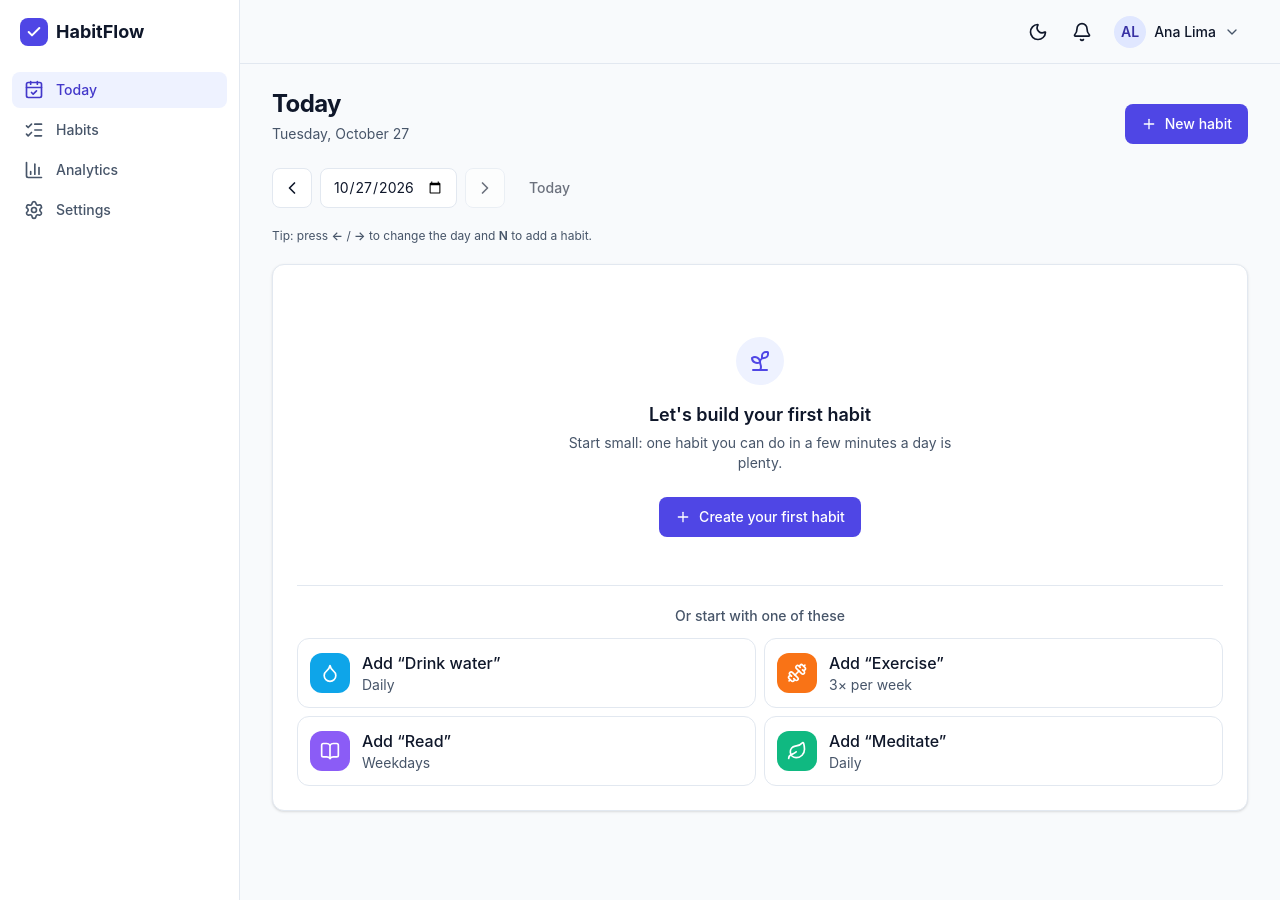
Test case: Escape closes the panel and returns focus to the bell
Click the button named "Notifications": {"x": 1082, "y": 32} [1062, 12, 1102, 52]
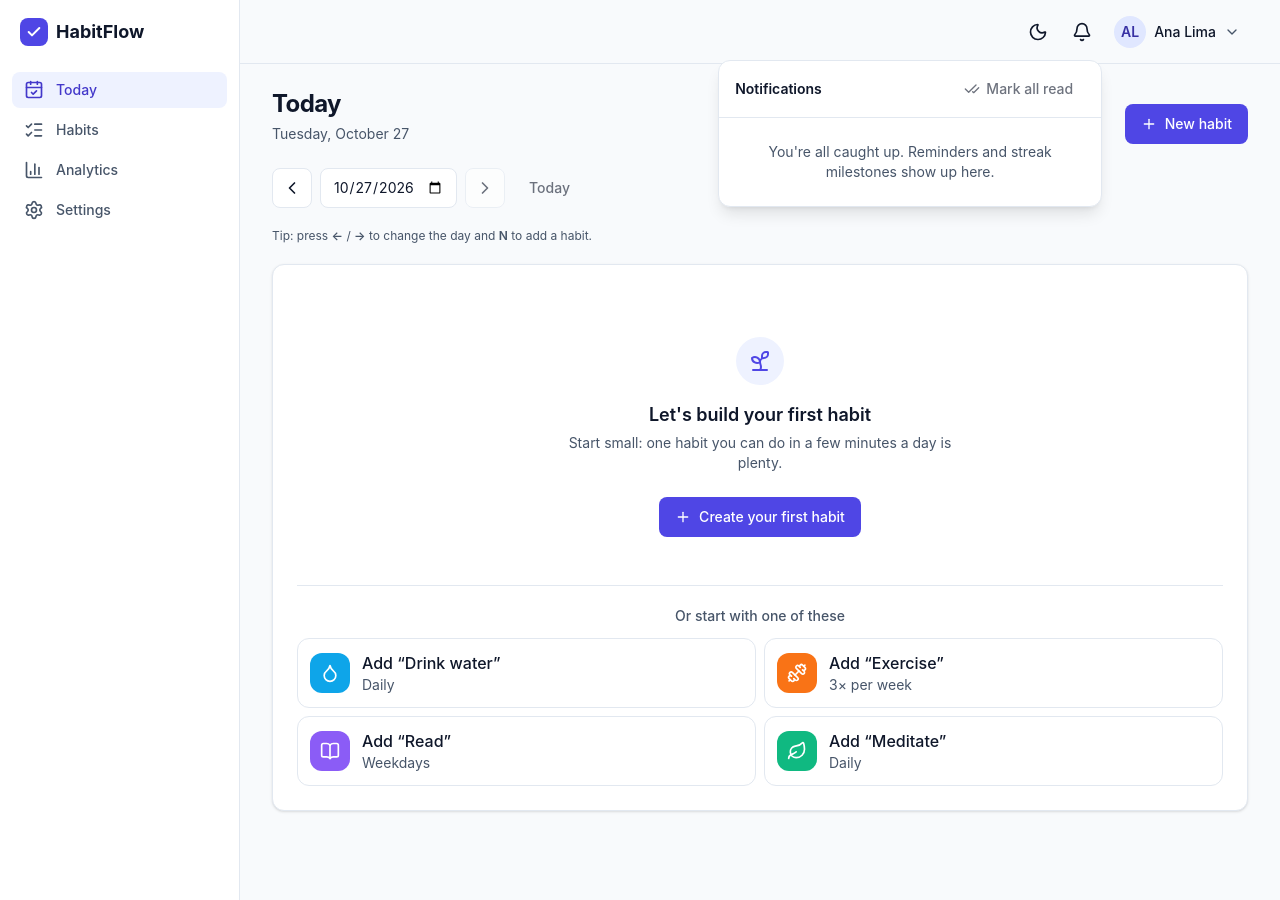
Result: the text "You're all caught up" is shown at [768, 142, 1052, 180]
Press Escape
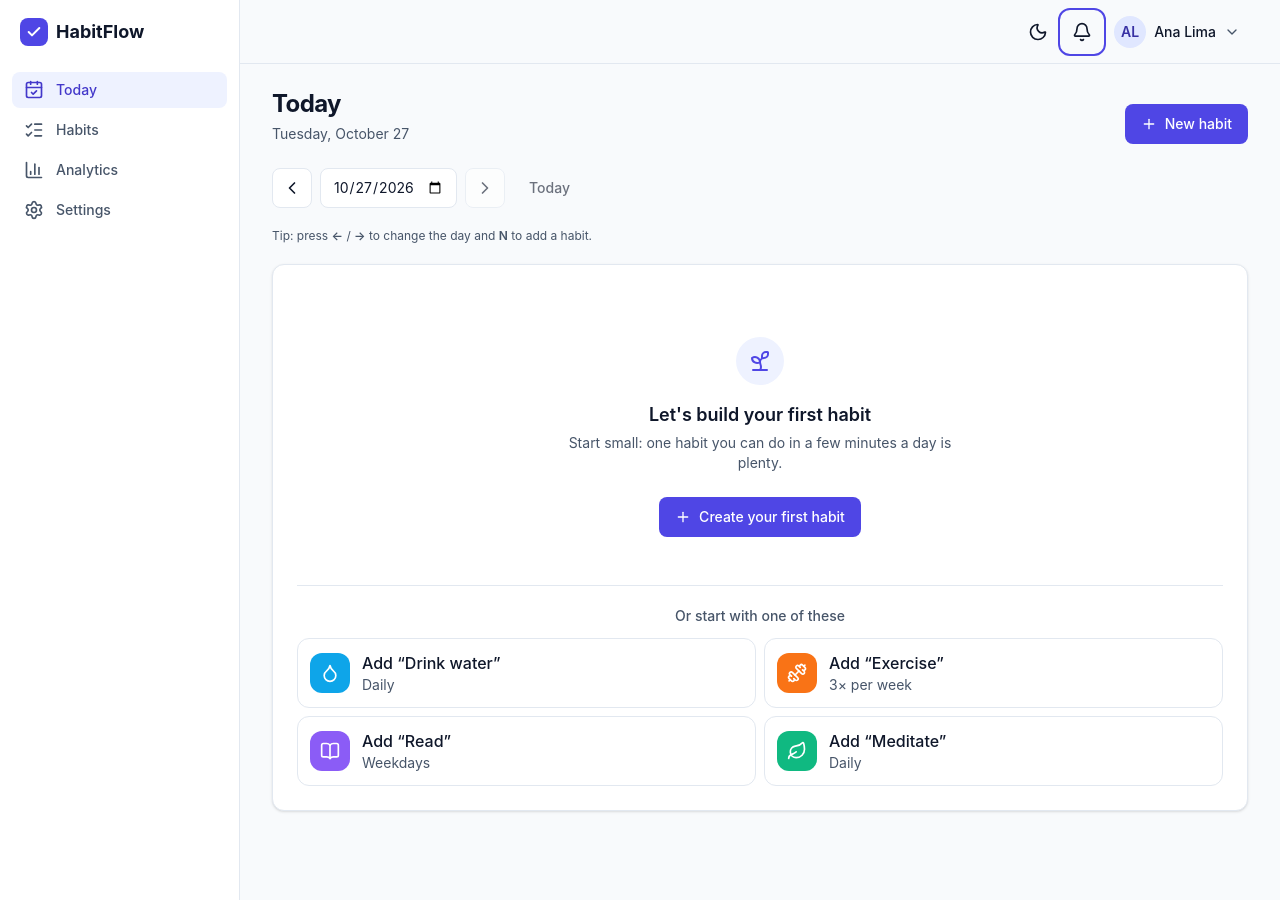
Result: the heading "Notifications" is gone
